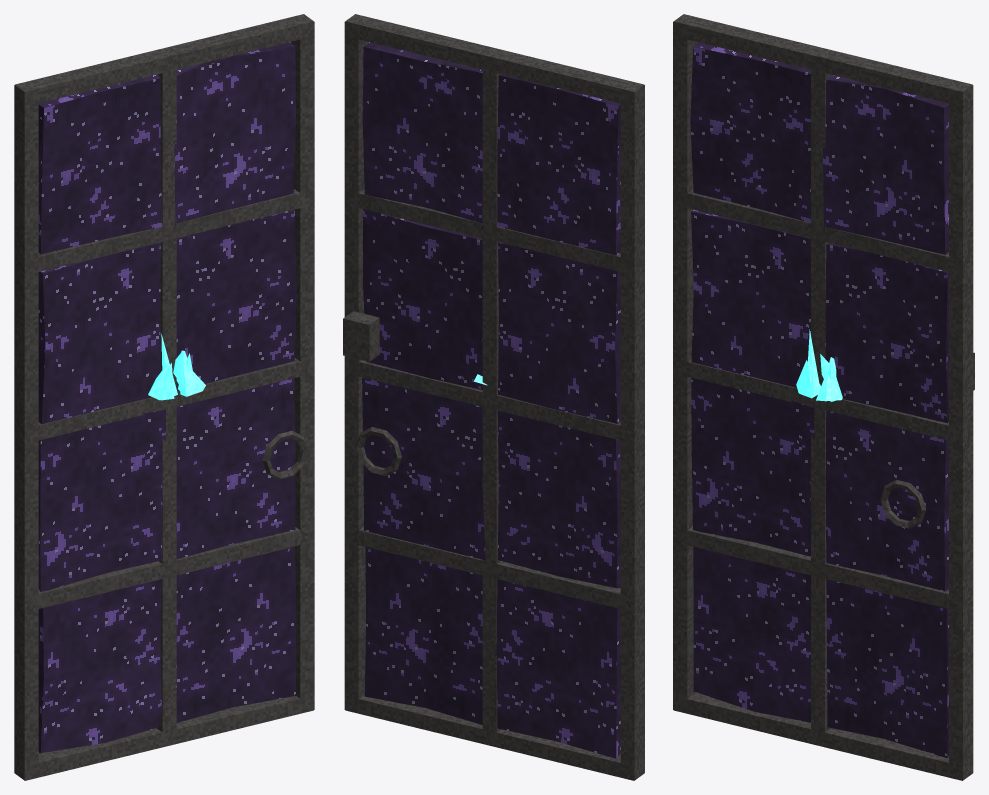
The model's file is portao_obsidiana_gigante_esq.glb.
3 views of the same model, side by side, from view 1: azimuth 30°, elevation 25°; view 2: azimuth 150°, elevation 25°; view 3: azimuth 330°, elevation 25° (orthographic).
Visible parts, largest first — view 1: portao_obsidiana_gigante_esq_obsidiana, portao_obsidiana_gigante_esq_ferro, portao_obsidiana_gigante_esq_cristal; view 2: portao_obsidiana_gigante_esq_obsidiana, portao_obsidiana_gigante_esq_ferro; view 3: portao_obsidiana_gigante_esq_obsidiana, portao_obsidiana_gigante_esq_ferro, portao_obsidiana_gigante_esq_cristal.
Boxes of the visible parts, left/top/right/bottom form: portao_obsidiana_gigante_esq_obsidiana: left=38, top=42, right=296, bottom=753; portao_obsidiana_gigante_esq_ferro: left=14, top=14, right=314, bottom=780; portao_obsidiana_gigante_esq_cristal: left=148, top=333, right=205, bottom=400; portao_obsidiana_gigante_esq_obsidiana: left=362, top=42, right=620, bottom=758; portao_obsidiana_gigante_esq_ferro: left=343, top=14, right=644, bottom=780; portao_obsidiana_gigante_esq_obsidiana: left=690, top=42, right=948, bottom=757; portao_obsidiana_gigante_esq_ferro: left=673, top=14, right=974, bottom=780; portao_obsidiana_gigante_esq_cristal: left=796, top=329, right=842, bottom=401.
Size of the model in its own units: 3.29 by 7.47 by 0.838.
3 materials, 3 textured.
